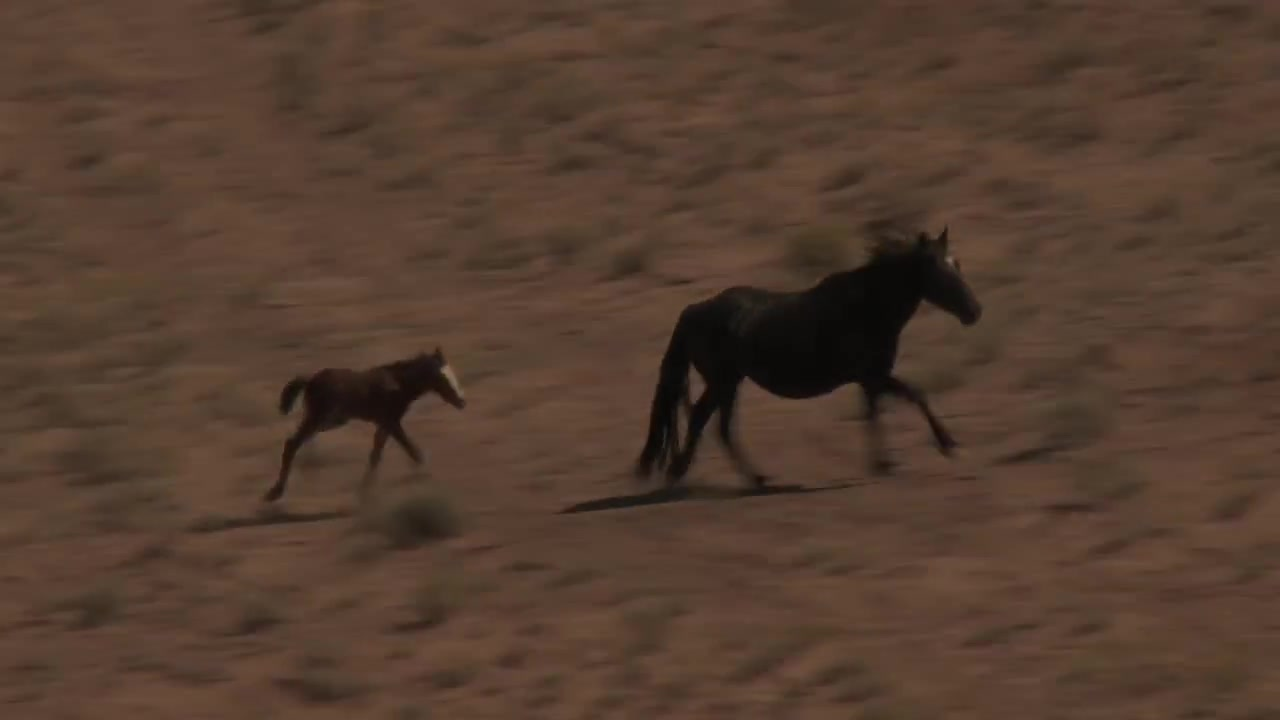horse: (633, 222, 986, 492), (262, 344, 473, 508)
